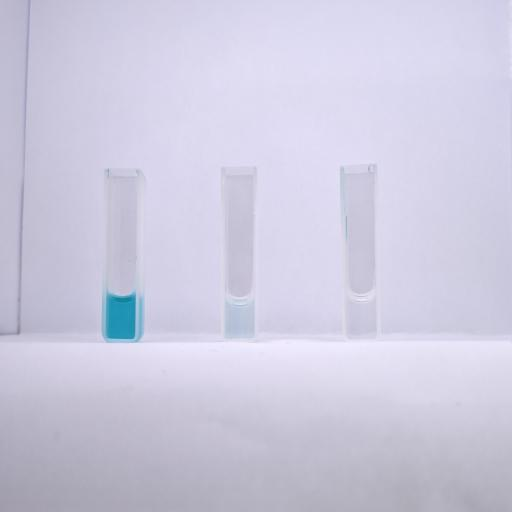cuvette: (100, 166, 144, 346), (338, 161, 381, 343), (219, 164, 260, 344)
liquid: (107, 291, 135, 339), (347, 292, 376, 338), (226, 295, 253, 339)
